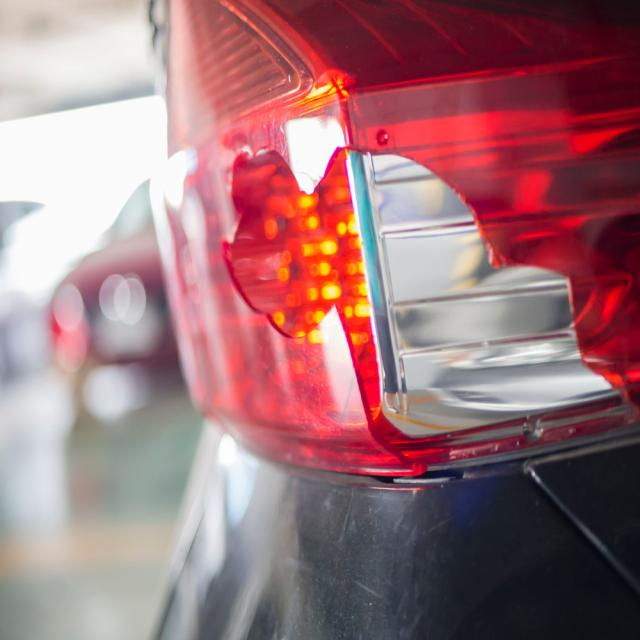lamp broken: (152, 0, 640, 477)
